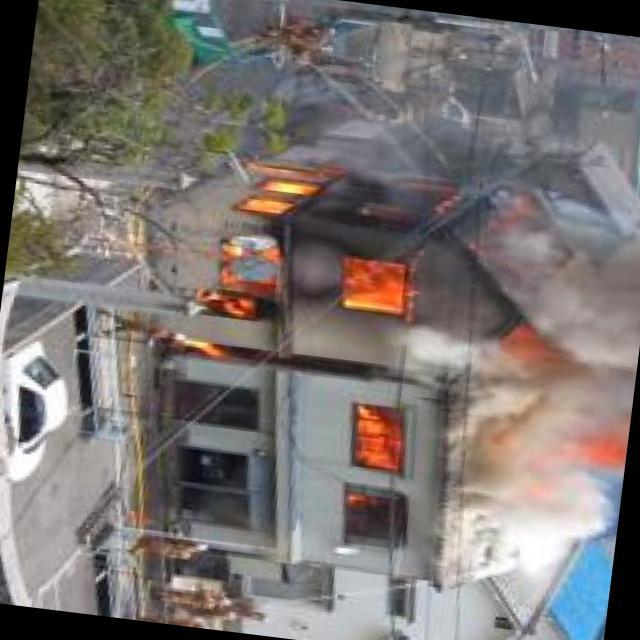Fire: (181, 161, 439, 347), (497, 406, 631, 513), (344, 408, 412, 485)
